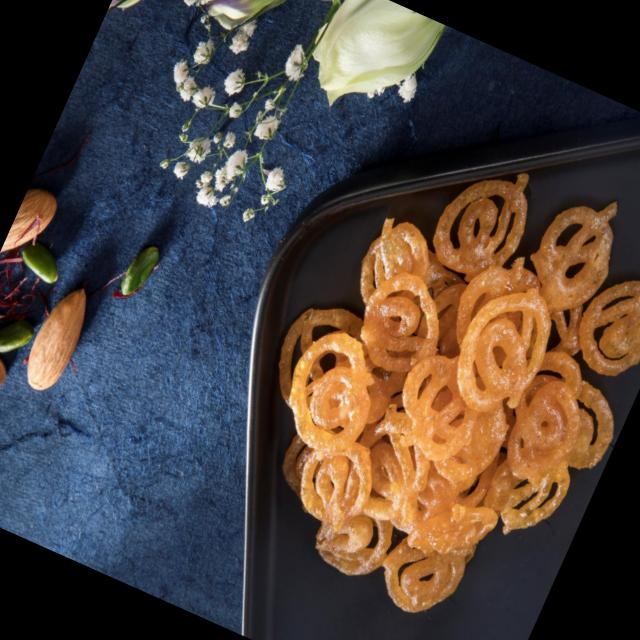jalebi: (197, 115, 640, 640)
